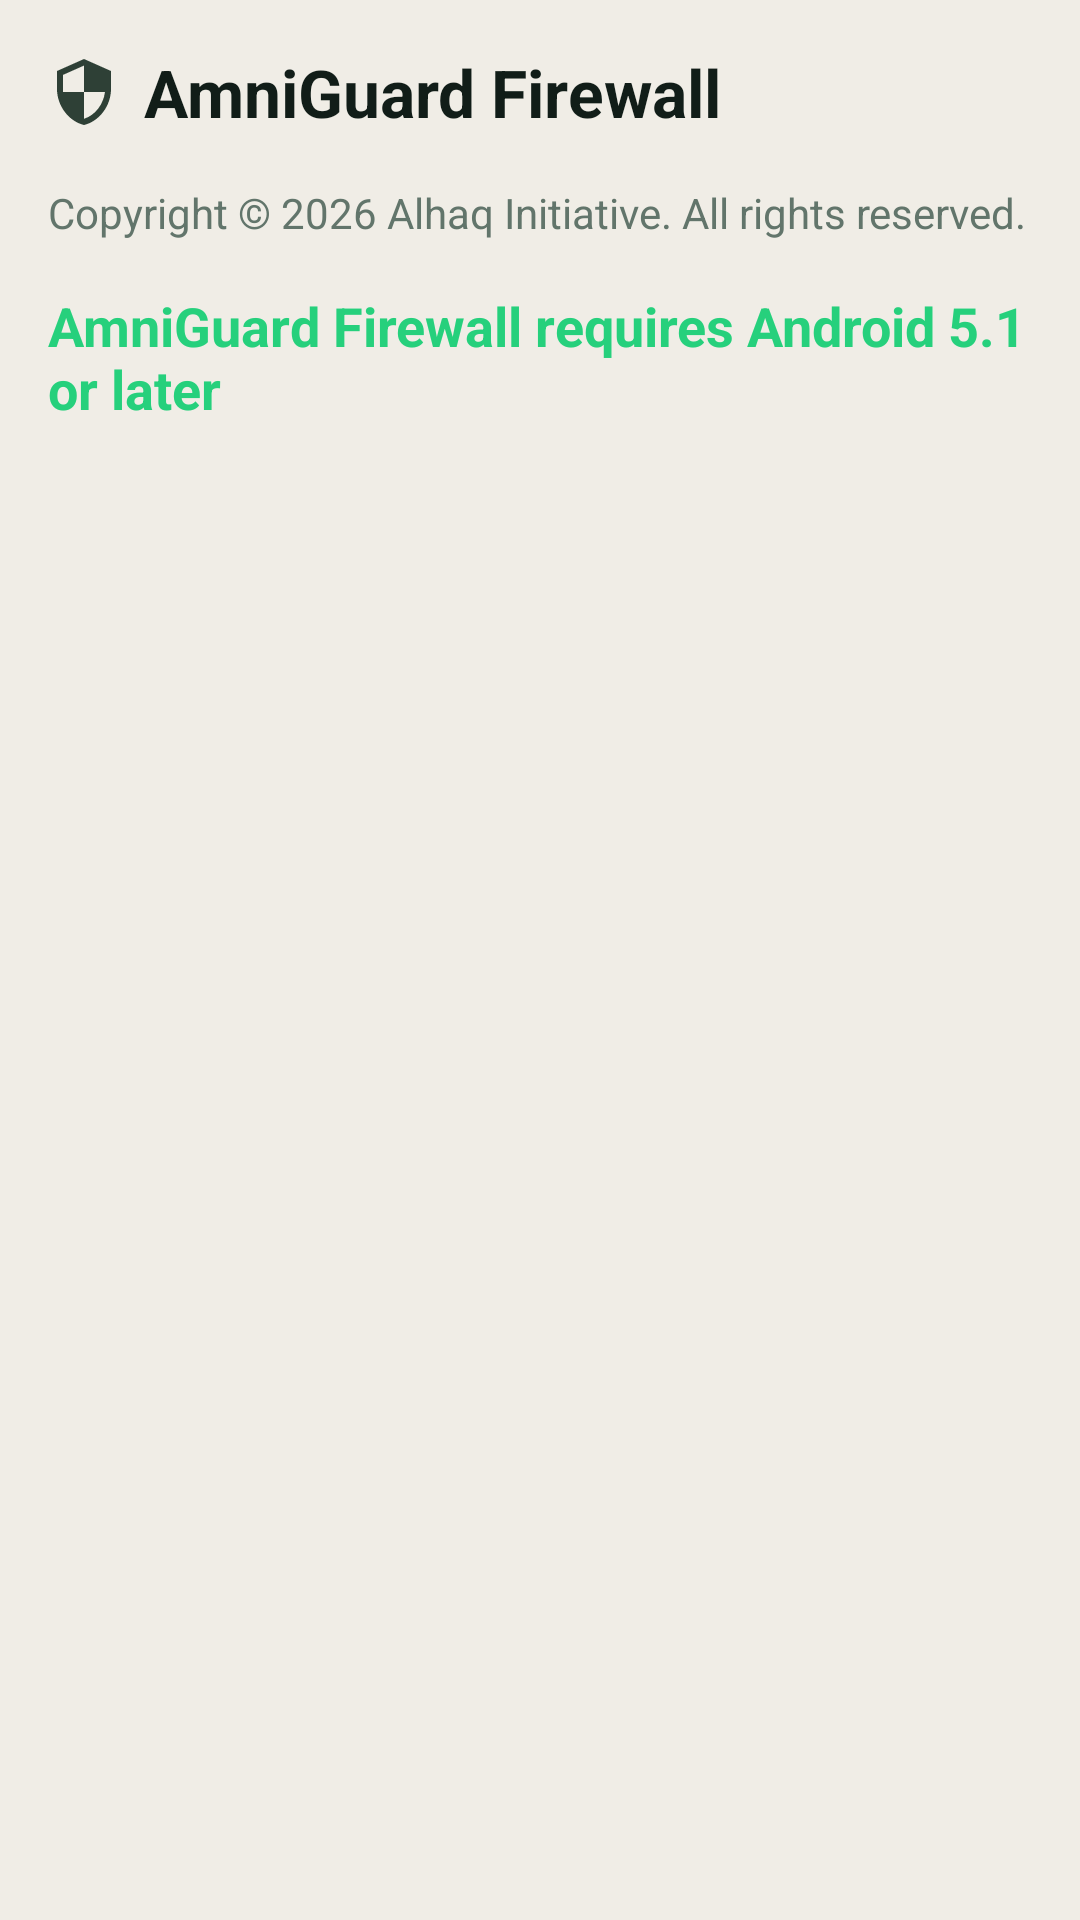

Where to tap for icons on this 1080×1920 app screen, as (x,y):
shield: (84,92)
